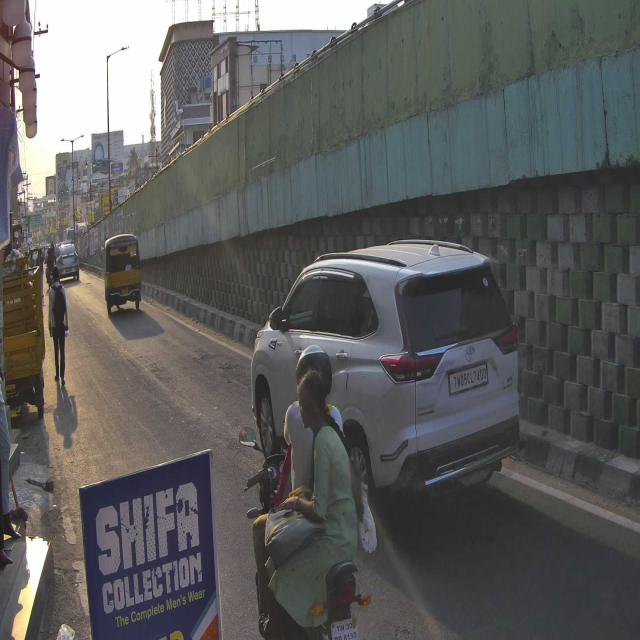double_rider: (239, 342, 371, 640)
